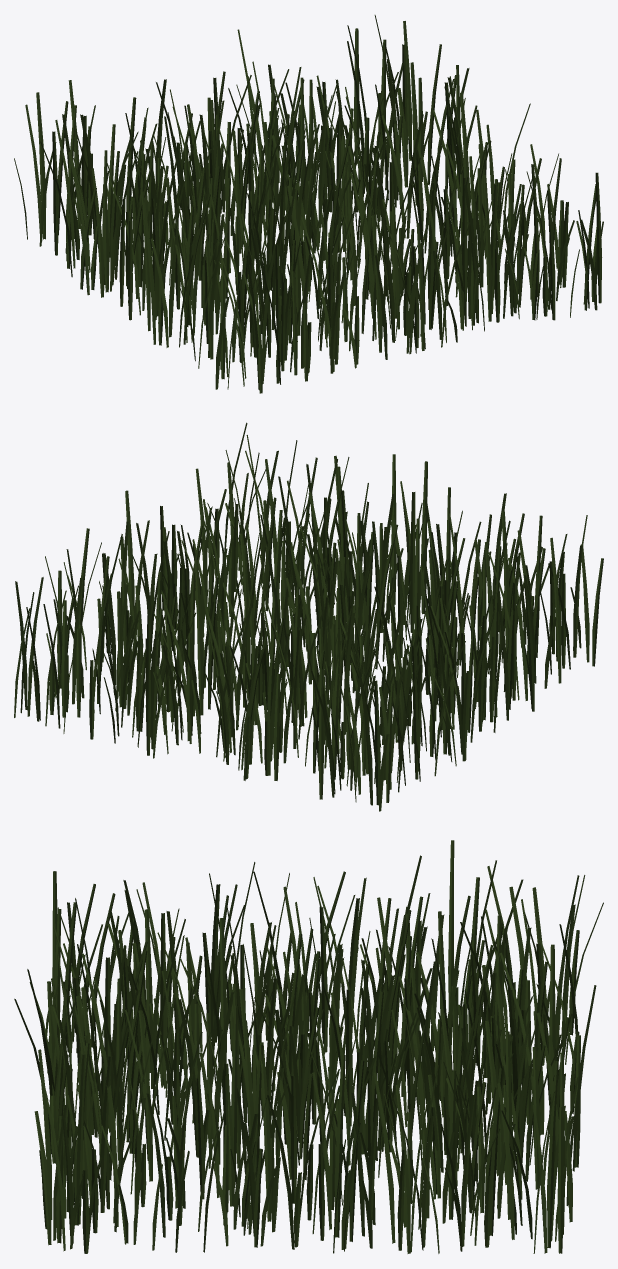
Rendered from grass.FBX.
3 views of the same model, one above another, from view 1: azimuth 30°, elevation 25°; view 2: azimuth 150°, elevation 25°; view 3: azimuth 270°, elevation 25° (orthographic). The views are drawn at different scales.
Visible parts, largest first — view 1: Grass06; view 2: Grass06; view 3: Grass06.
Boxes of the visible parts, x1,y1,x2,y2 form: Grass06: (14,15,603,393); Grass06: (14,422,603,811); Grass06: (14,840,603,1253).
Bounding box in the file's own units: 34.62 × 11.85 × 34.89.
